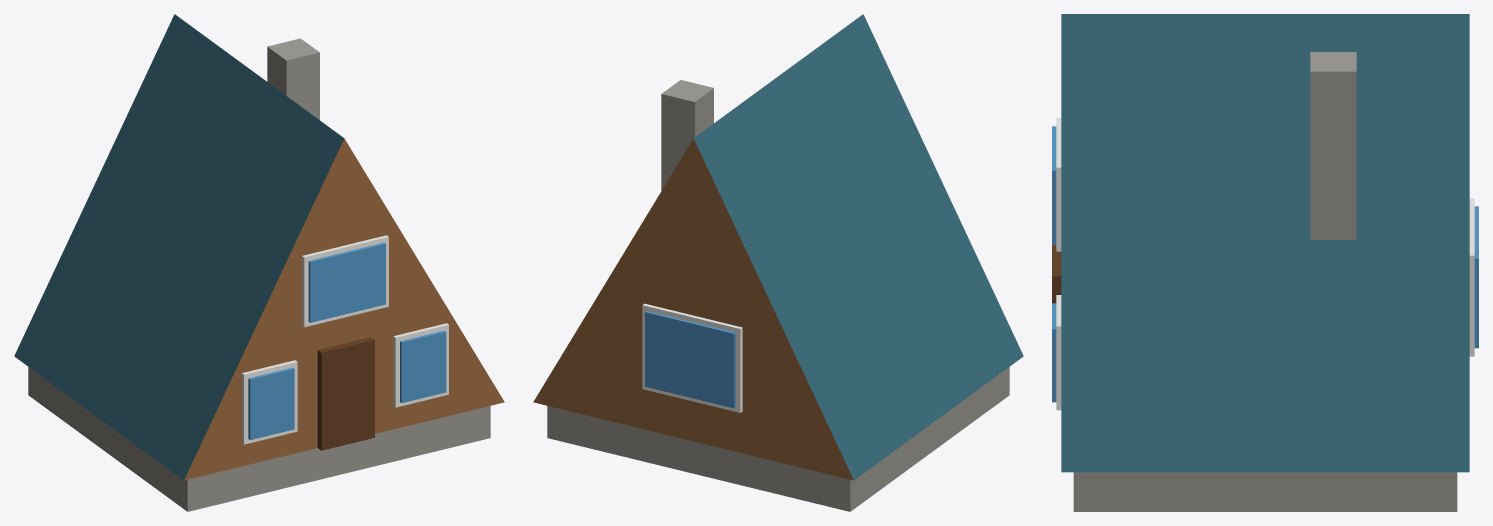
Rendered from 04_alpine_chalet_1.obj.
3 renders of one model, left to right at view 1: azimuth 30°, elevation 25°; view 2: azimuth 150°, elevation 25°; view 3: azimuth 270°, elevation 25°, orthographic. The views are drawn at different scales.
Parts seen in each view (by area): view 1: 04_alpine_chalet_1; view 2: 04_alpine_chalet_1; view 3: 04_alpine_chalet_1.
Boxes of the visible parts, x1=… form: 04_alpine_chalet_1: x1=14, y1=14, x2=504, y2=511; 04_alpine_chalet_1: x1=533, y1=14, x2=1023, y2=511; 04_alpine_chalet_1: x1=1052, y1=14, x2=1478, y2=511.
Size of the model in its own units: 1.44 by 1.46 by 1.38.
